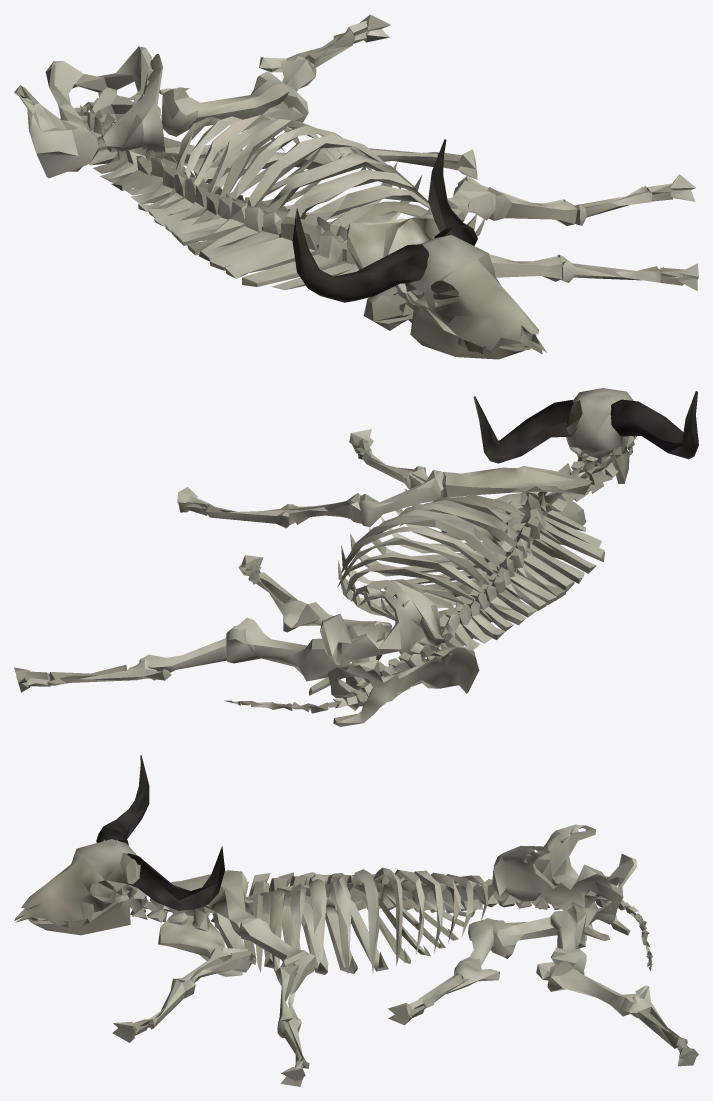
The model's file is buffalo.glb.
The picture shows the model from 3 angles, top to bottom: view 1: azimuth 30°, elevation 25°; view 2: azimuth 150°, elevation 25°; view 3: azimuth 270°, elevation 25°; orthographic projection. The views are drawn at different scales.
Parts seen in each view (by area): view 1: buffalo; view 2: buffalo; view 3: buffalo.
Part boxes in pixels (x1,y1,x2,y2): buffalo: [14, 14, 698, 359]; buffalo: [14, 388, 698, 726]; buffalo: [14, 755, 698, 1086].
Bounding box in the file's own units: 0.6638 × 0.2405 × 0.9985.
1 material, 1 textured.
